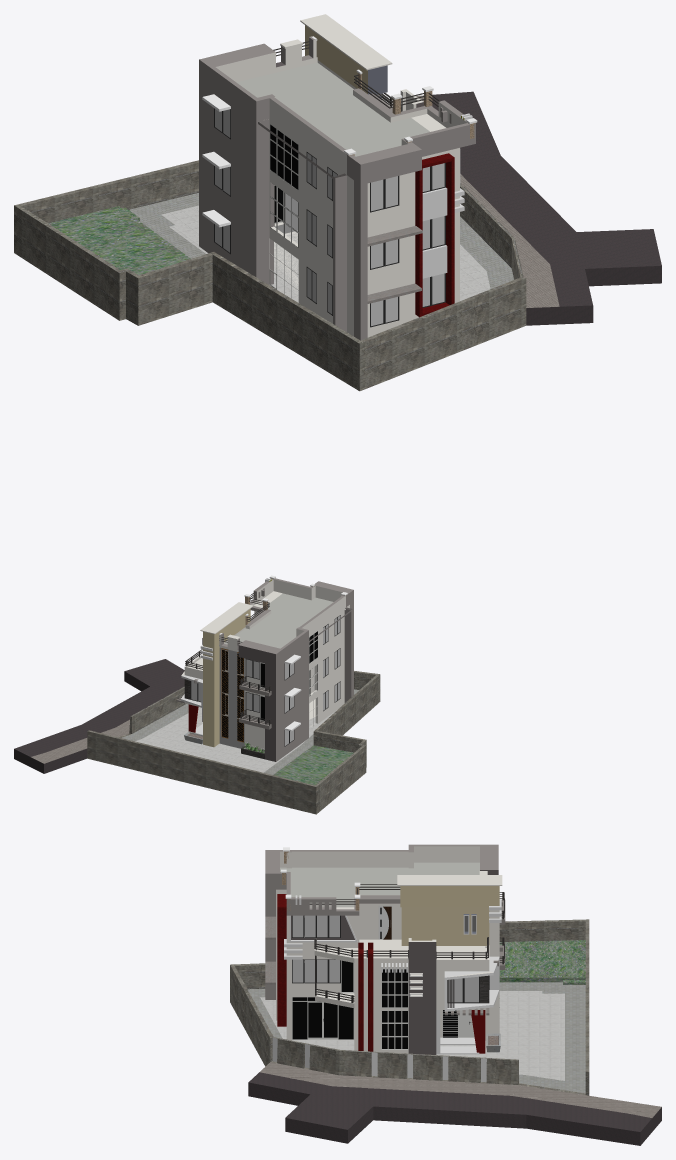
The model's file is low_poly_house.glb.
3 views of the same model, one above another, from view 1: azimuth 30°, elevation 25°; view 2: azimuth 150°, elevation 25°; view 3: azimuth 270°, elevation 25° (orthographic). The views are drawn at different scales.
Parts seen in each view (by area): view 1: Component#26.110; view 2: Component#26.110; view 3: Component#26.110.
Part boxes in pixels (left/top/right/bottom): Component#26.110: left=14, top=14, right=661, bottom=391; Component#26.110: left=14, top=575, right=380, bottom=814; Component#26.110: left=230, top=844, right=661, bottom=1145.
Bounding box in the file's own units: 37.94 × 10.82 × 37.25.
Materials: 46 (25 with a texture image).
